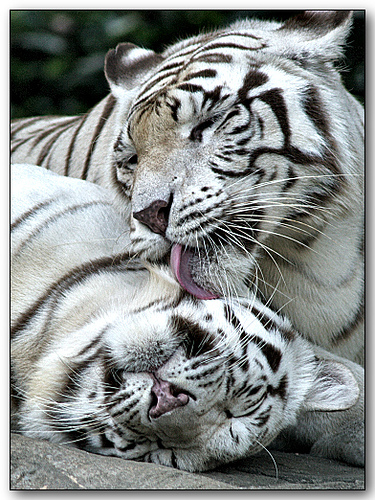Tigre: (83, 17, 351, 264), (60, 290, 365, 484)
